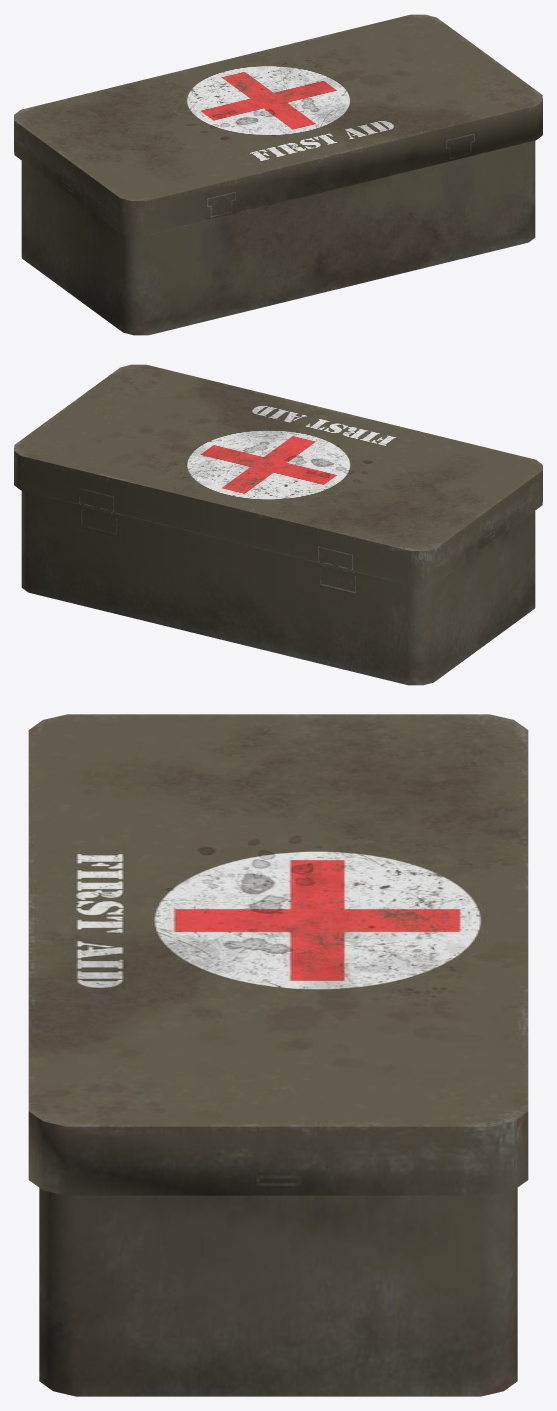
Rendered from FirstAid.fbx.
3 renders of one model, top to bottom at view 1: azimuth 30°, elevation 25°; view 2: azimuth 150°, elevation 25°; view 3: azimuth 270°, elevation 25°, orthographic. The views are drawn at different scales.
Visible parts, largest first — view 1: Object_2; view 2: Object_2; view 3: Object_2.
Boxes of the visible parts, x1,y1,x2,y2 form: Object_2: (14,14,542,335); Object_2: (14,364,542,685); Object_2: (28,714,528,1396).
Bounding box in the file's own units: 41.21 × 12.81 × 21.1.
